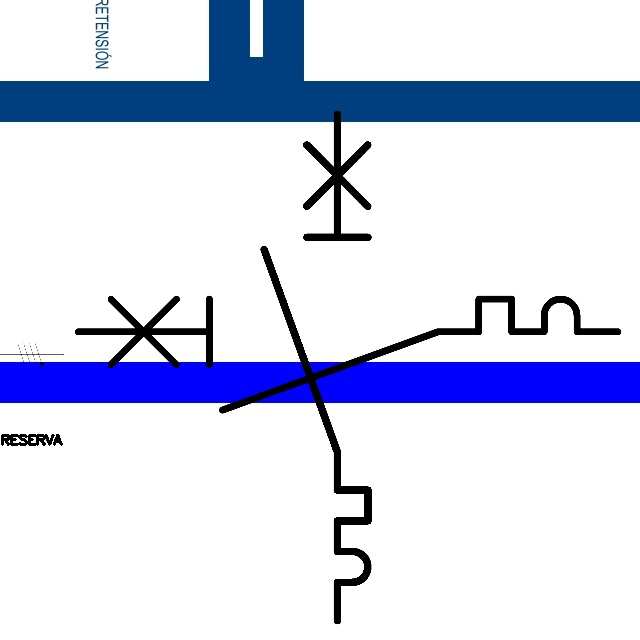interruptor_termomagnetico: (64, 285, 632, 424), (251, 101, 381, 634)
